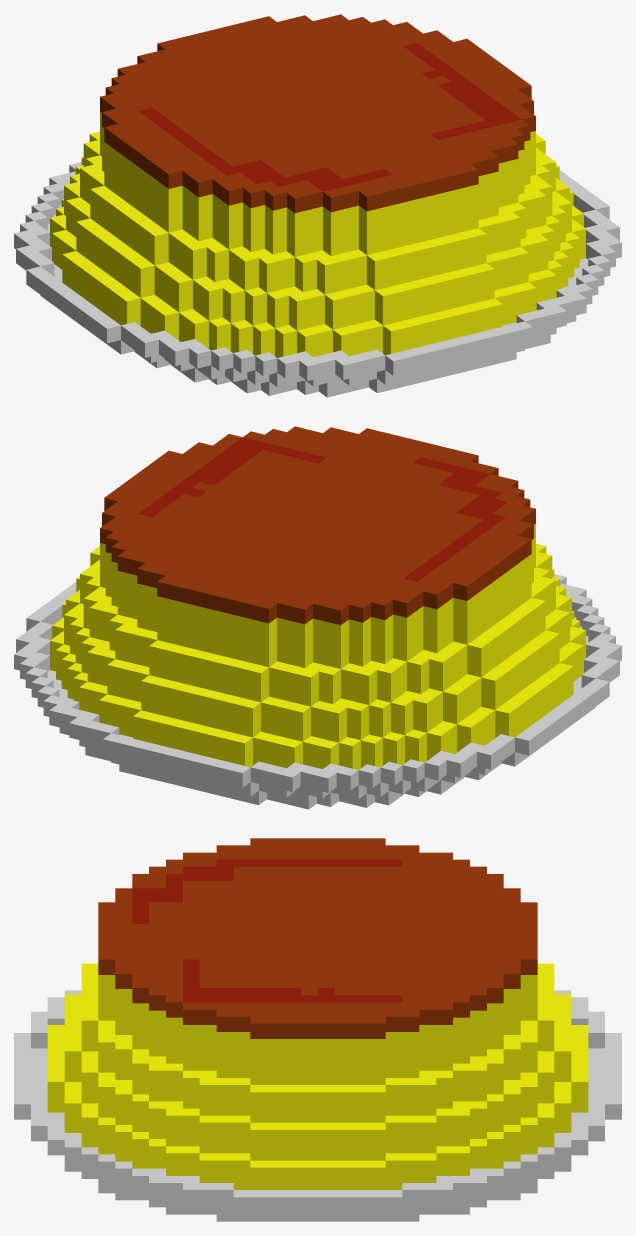
Rendered from Pudding.obj.
3 views of the same model, one above another, from view 1: azimuth 30°, elevation 25°; view 2: azimuth 150°, elevation 25°; view 3: azimuth 270°, elevation 25° (orthographic). The views are drawn at different scales.
Visible parts, largest first — view 1: Pudding; view 2: Pudding; view 3: Pudding.
Boxes of the visible parts, x1,y1,x2,y2 form: Pudding: [14, 14, 621, 397]; Pudding: [14, 426, 621, 809]; Pudding: [14, 838, 621, 1221].
Bounding box in the file's own units: 36 × 12 × 36.
Materials: 1 (1 with a texture image).
